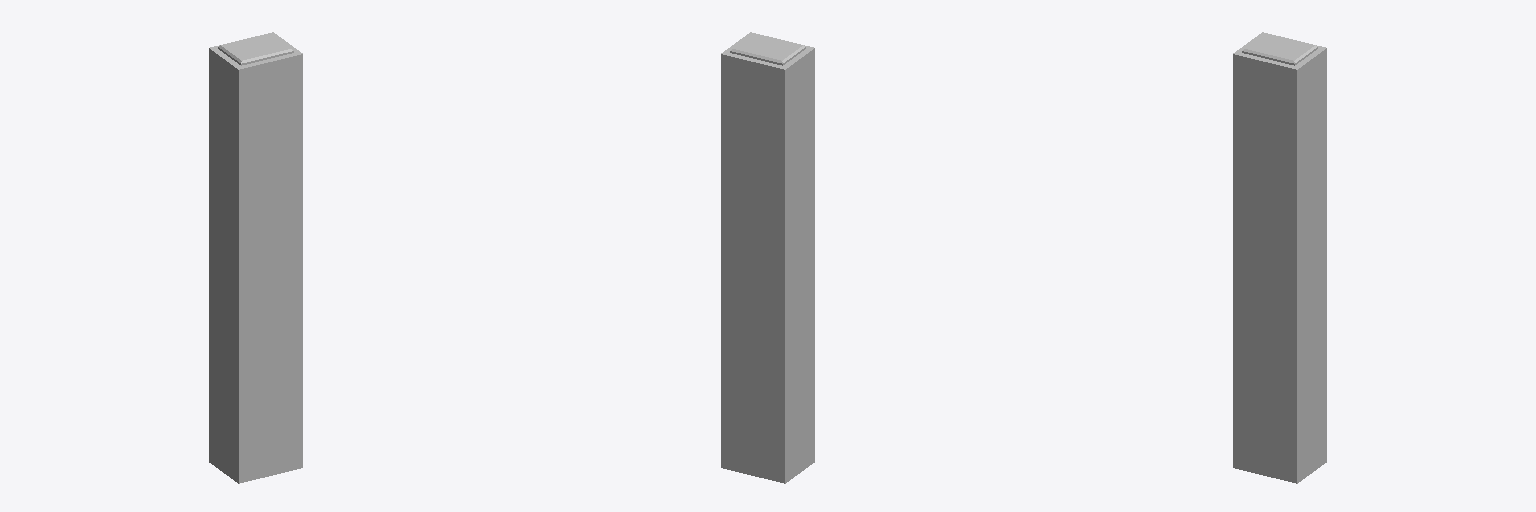
File: big bulidinf.obj
The picture shows the model from 3 angles: view 1: azimuth 30°, elevation 25°; view 2: azimuth 150°, elevation 25°; view 3: azimuth 330°, elevation 25°; orthographic projection.
Parts seen in each view (by area): view 1: pCube1; view 2: pCube1; view 3: pCube1.
Part boxes in pixels (x1,y1,x2,y2): pCube1: (209,32,302,483); pCube1: (721,32,814,483); pCube1: (1233,32,1326,483).
Size of the model in its own units: 1000 by 6172 by 800.